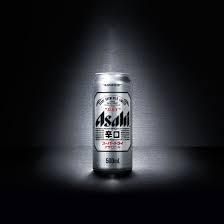beer: (89, 70, 136, 175)
